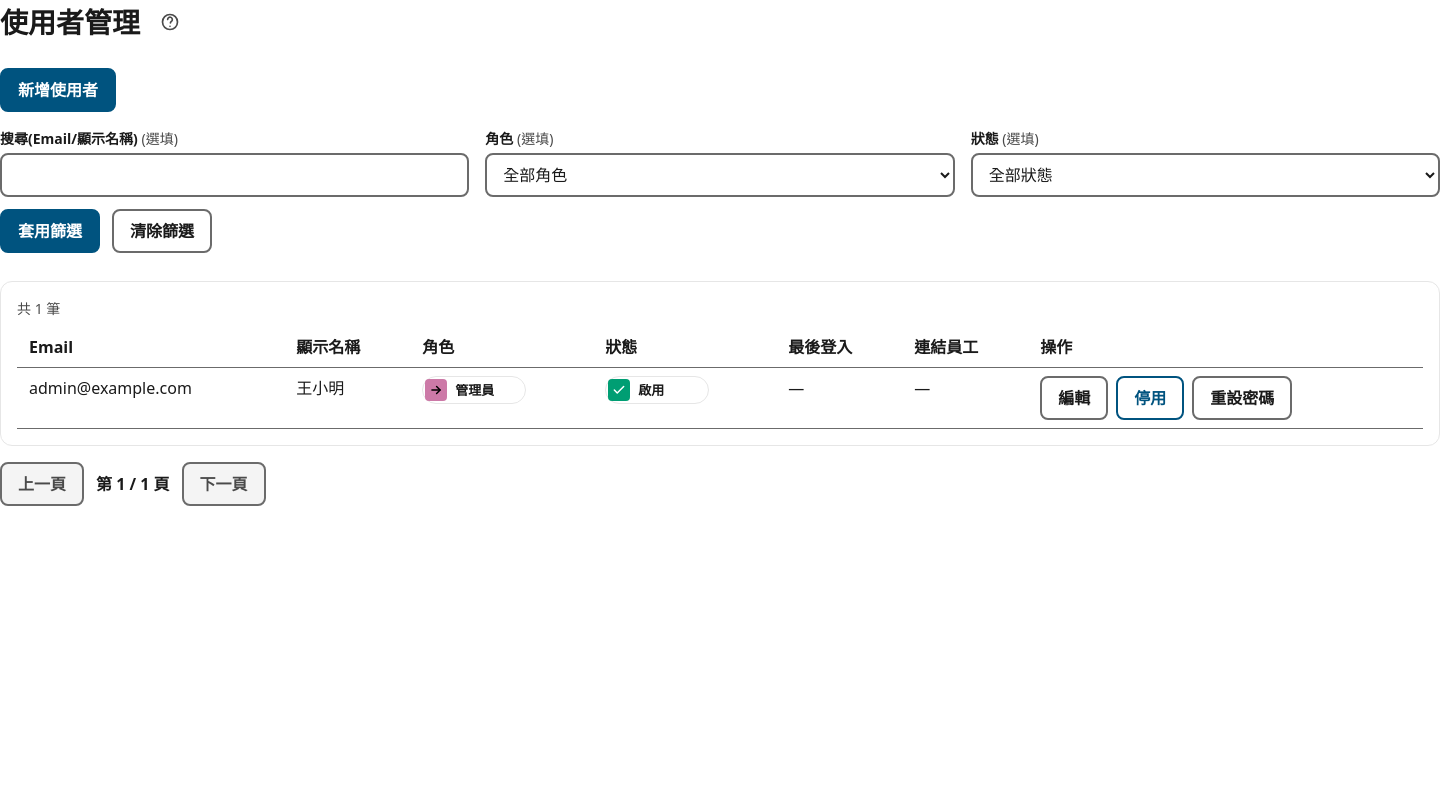
Test: UsersAdminPage › resets a password and shows a success message
Step 1. Click the button "重設密碼" → click(1242, 398), box [1192,376,1292,420]
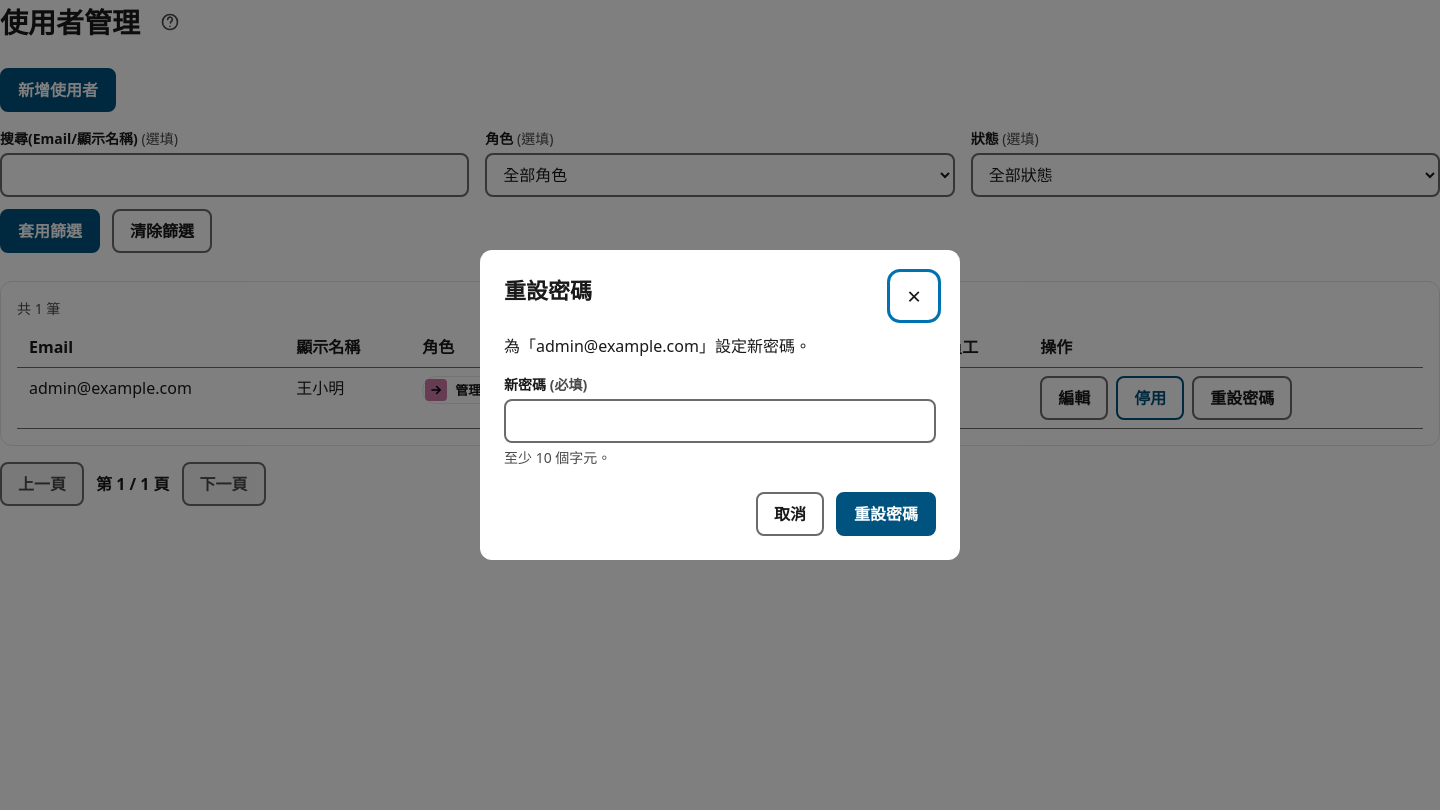
Step 2. Type "brandnewpassword" into the password field labelled "新密碼 (必填)" → (720, 421), box [504,399,936,443]
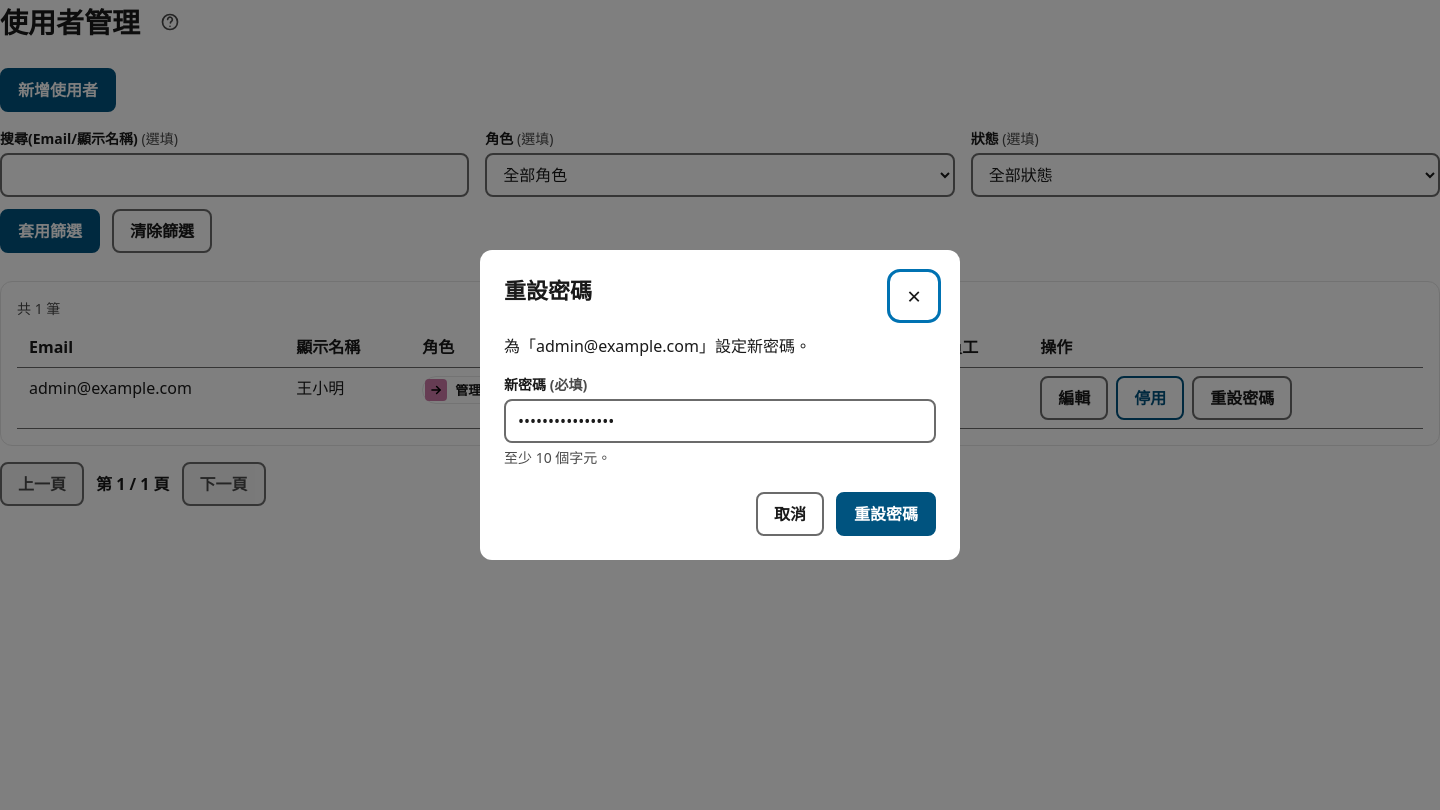
Step 3. Click the button "重設密碼" → click(886, 514), box [836,492,936,536]
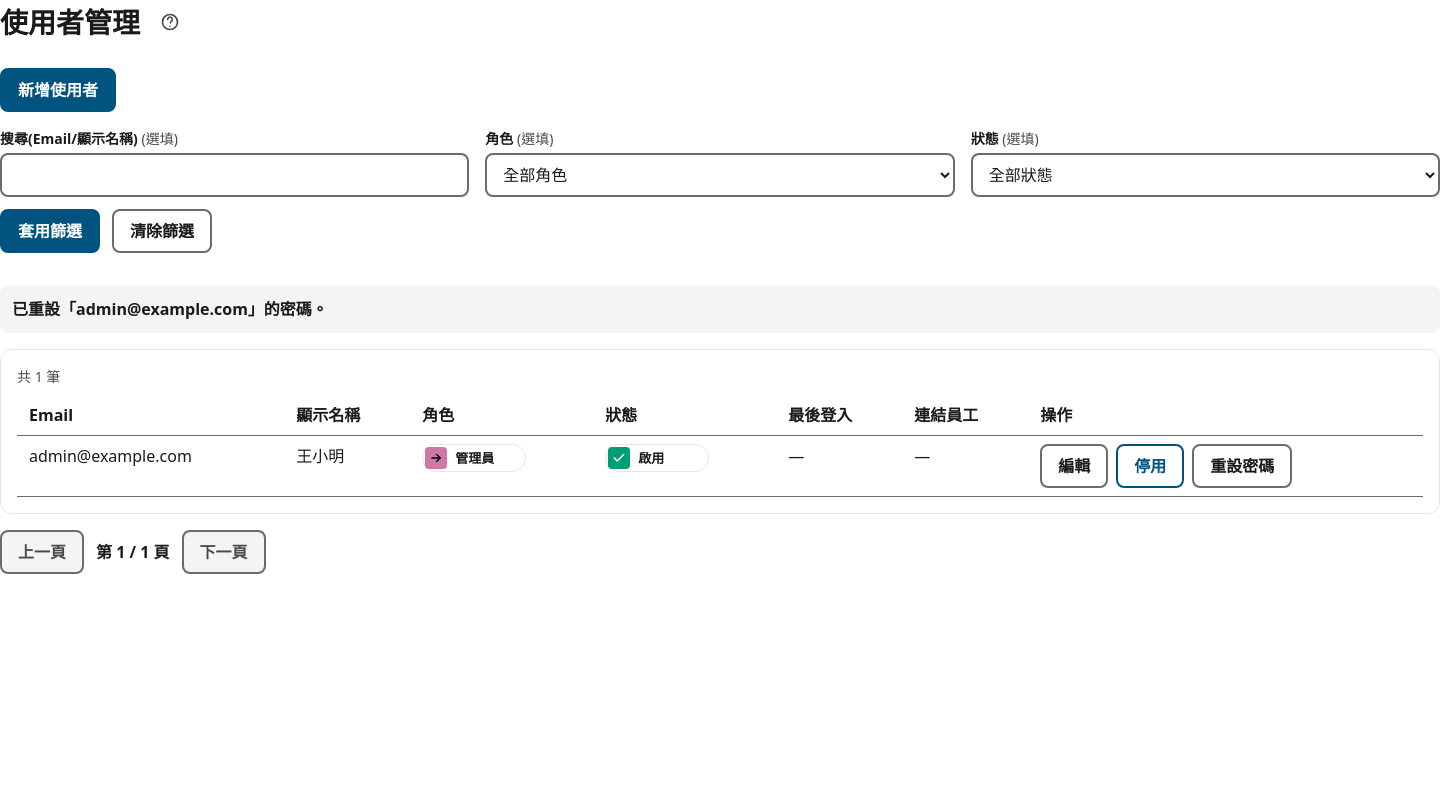
Check: the text "已重設「admin@example.com」的密碼" is shown, box [12,298,328,320]
